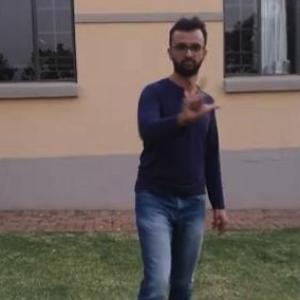land_hand: (174, 72, 221, 129)
